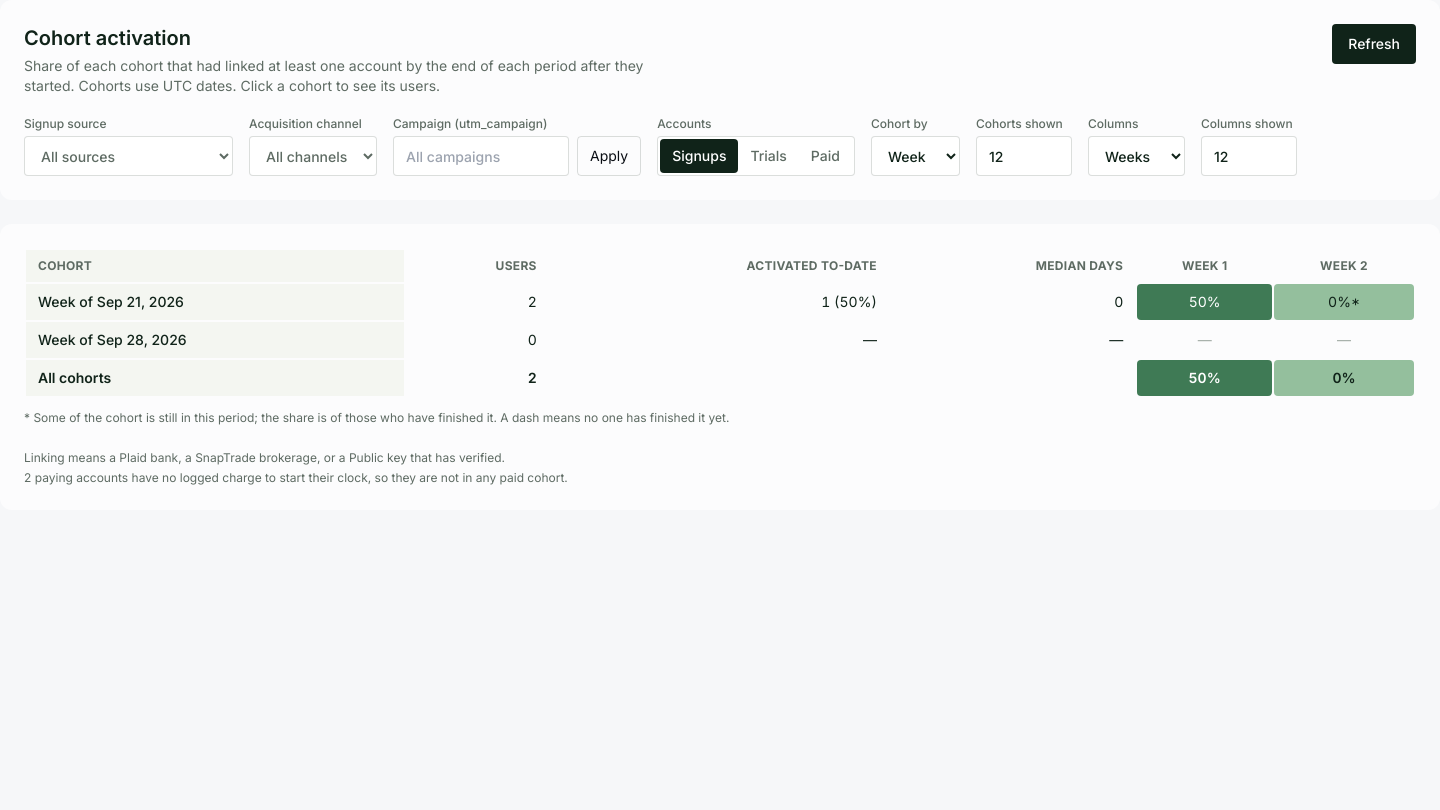
Test: CohortReportPanel › shows activation to date and who linked when
Expected: the text "1 (50%)" is shown, [551,284,889,320]
Expected: the list item "2 paying accounts have no logged charge" is shown, [24,470,568,485]
Step 1. Click the button "Week of Sep 21, 2026" → (111, 302), box [30,288,400,316]
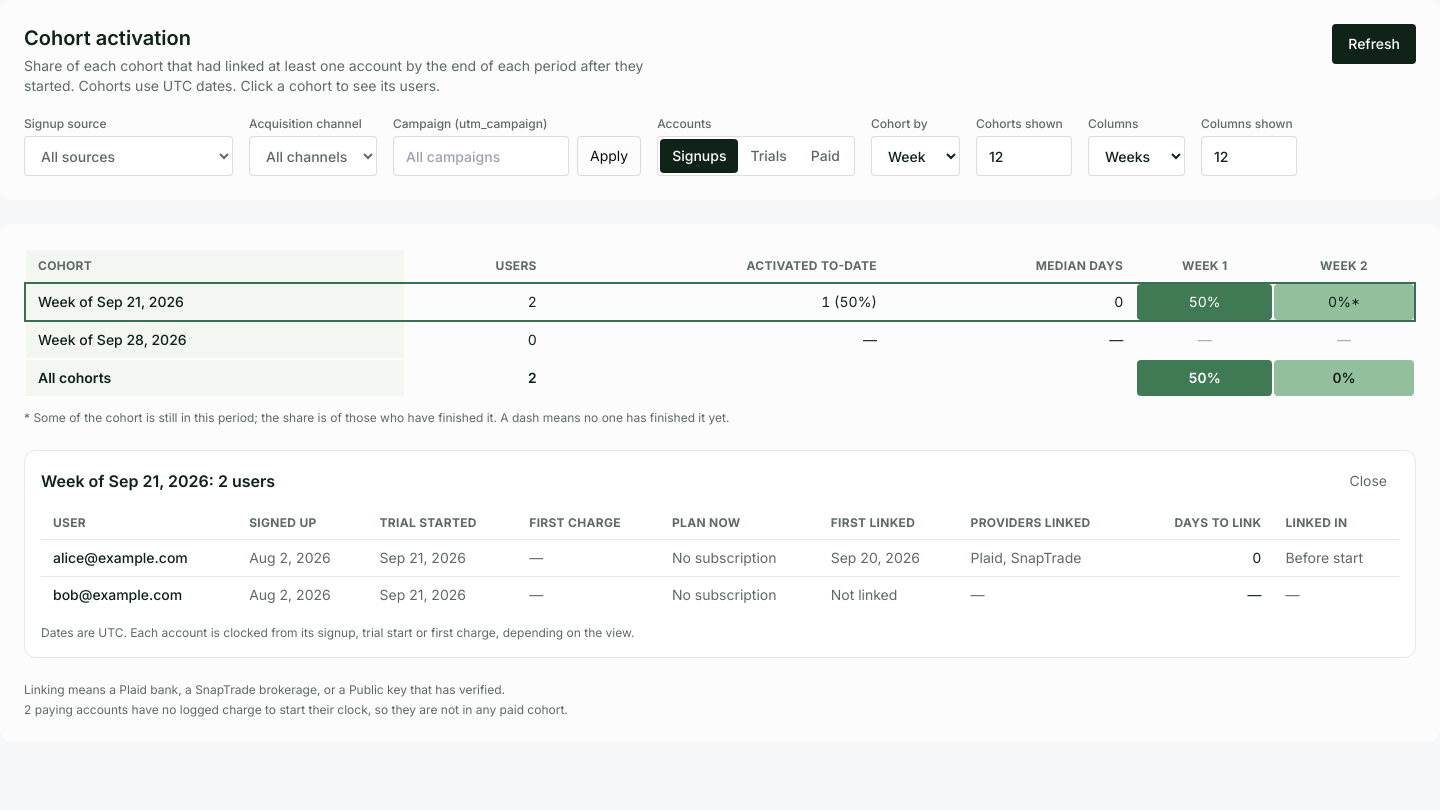
Expected: the text "Plaid, SnapTrade" is shown, [959,540,1136,576]
Expected: the text "Before start" is shown, [1273,540,1399,576]
Expected: the text "Not linked" is shown, [819,576,959,613]
